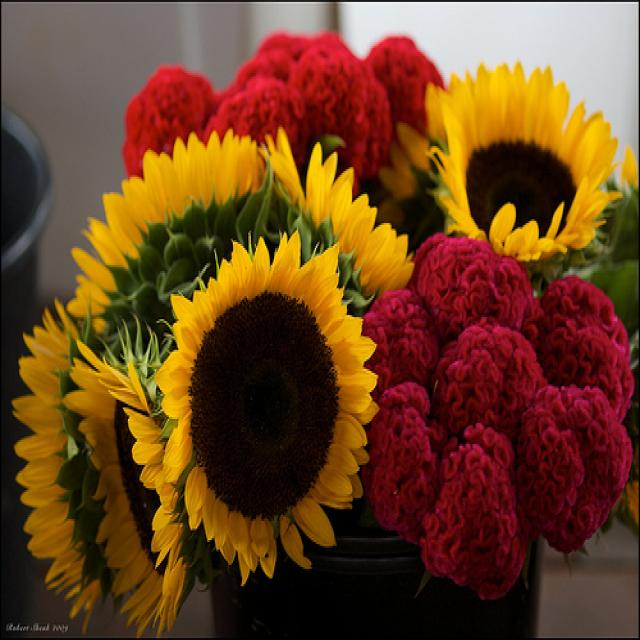sunflower: (154, 224, 378, 587), (421, 58, 623, 276), (58, 342, 189, 640)
